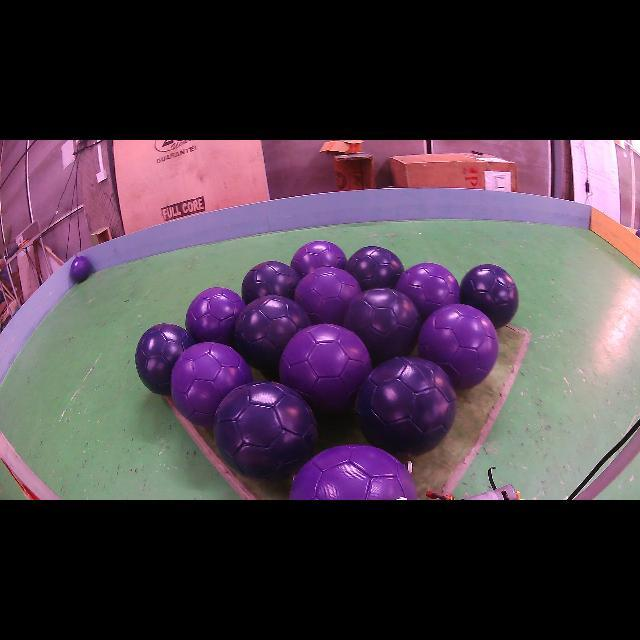B: (214, 381, 318, 481), (356, 358, 456, 453), (344, 288, 421, 365), (235, 295, 310, 374), (135, 324, 195, 395), (460, 264, 519, 329), (345, 246, 404, 291), (241, 261, 300, 304)
P: (280, 324, 372, 414), (170, 342, 252, 429), (290, 445, 418, 500), (418, 304, 499, 389), (294, 266, 361, 326), (395, 262, 460, 320), (185, 288, 246, 346), (290, 240, 346, 279), (70, 256, 92, 282)
